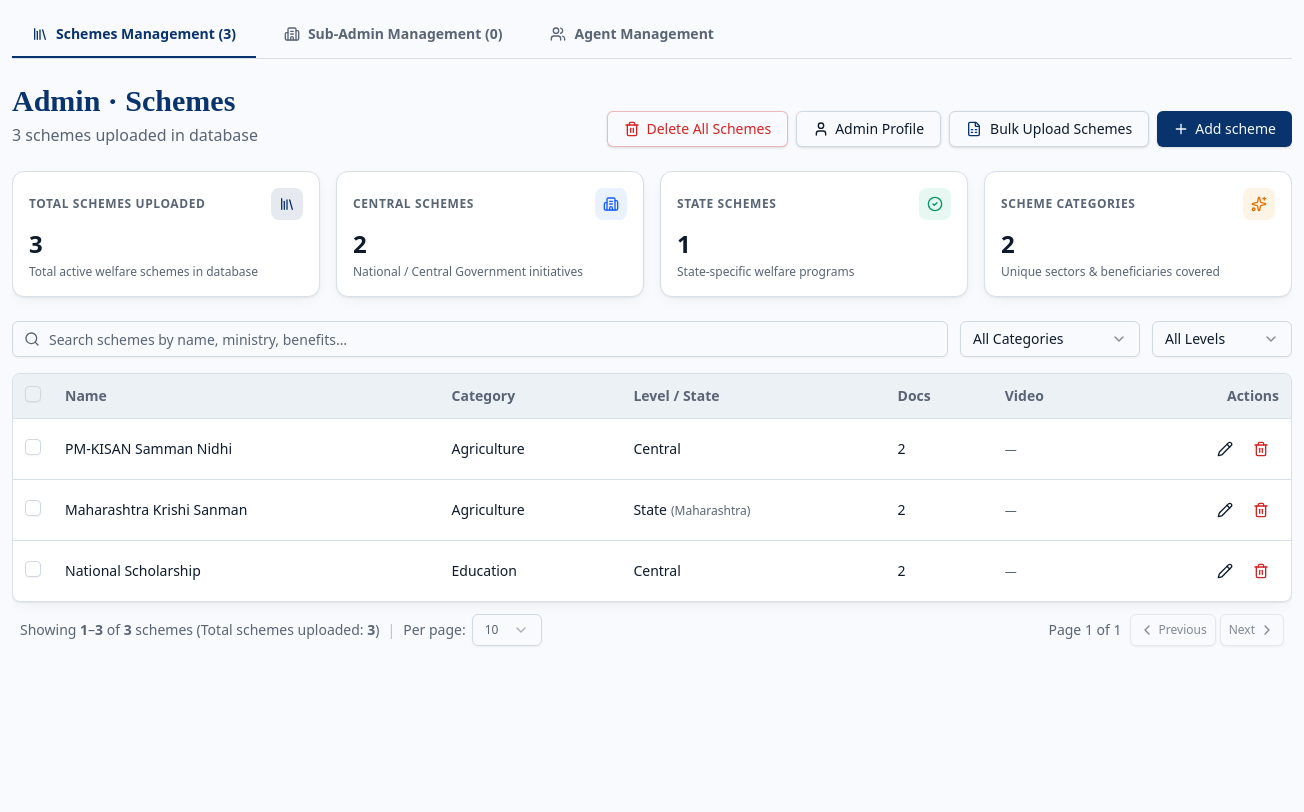
Test: Admin Bulk Delete Schemes Functionality › selects only filtered schemes when a search filter is active and Select All is clicked
The image size is (1304, 812).
# Search for "Scholarship" which matches only scheme-3
In the field with placeholder "Search schemes by name, ministry, benefits…": (480, 339) [12,321,948,357], type "Scholarship"
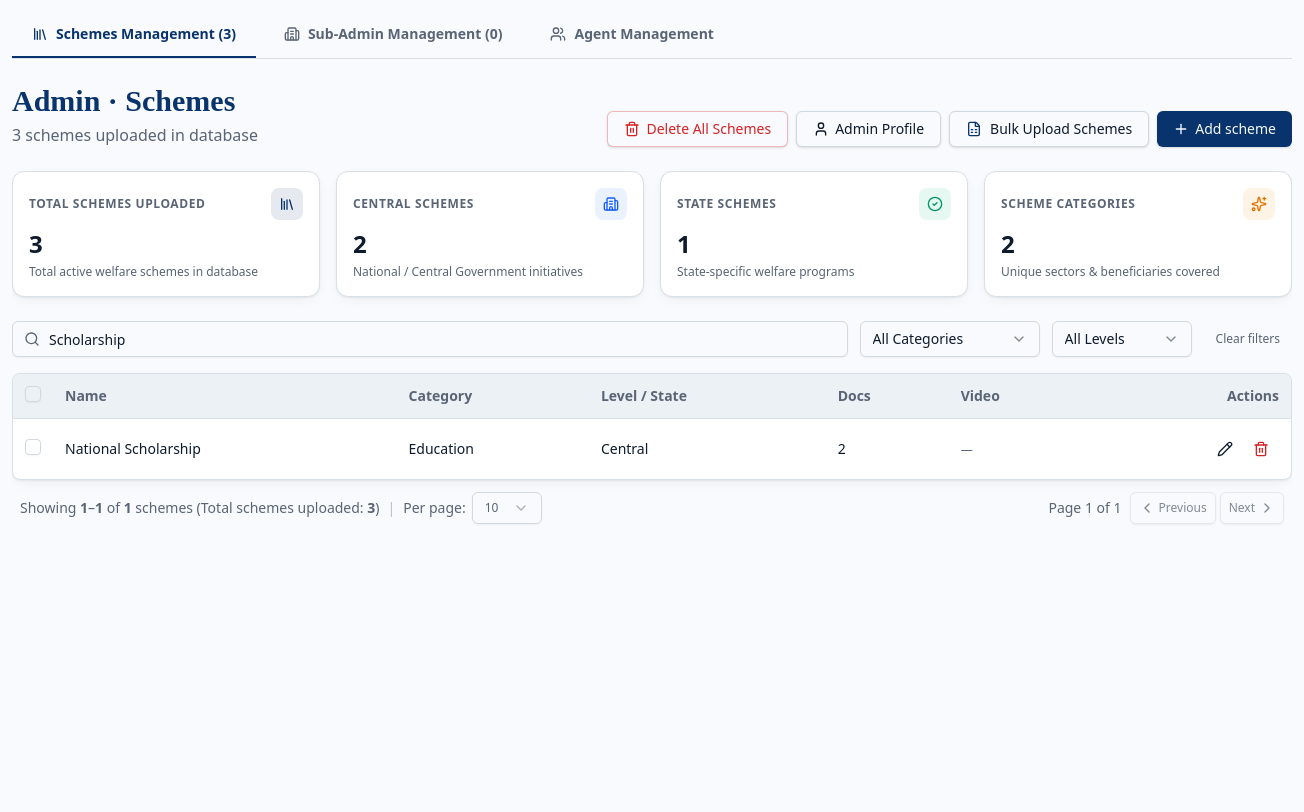
Check: the text "National Scholarship" is shown, box [53,418,397,479]
Check: the text "PM-KISAN Samman Nidhi" is gone
Click the checkbox with test id "select-all-checkbox": (33, 394) [25,386,41,402]
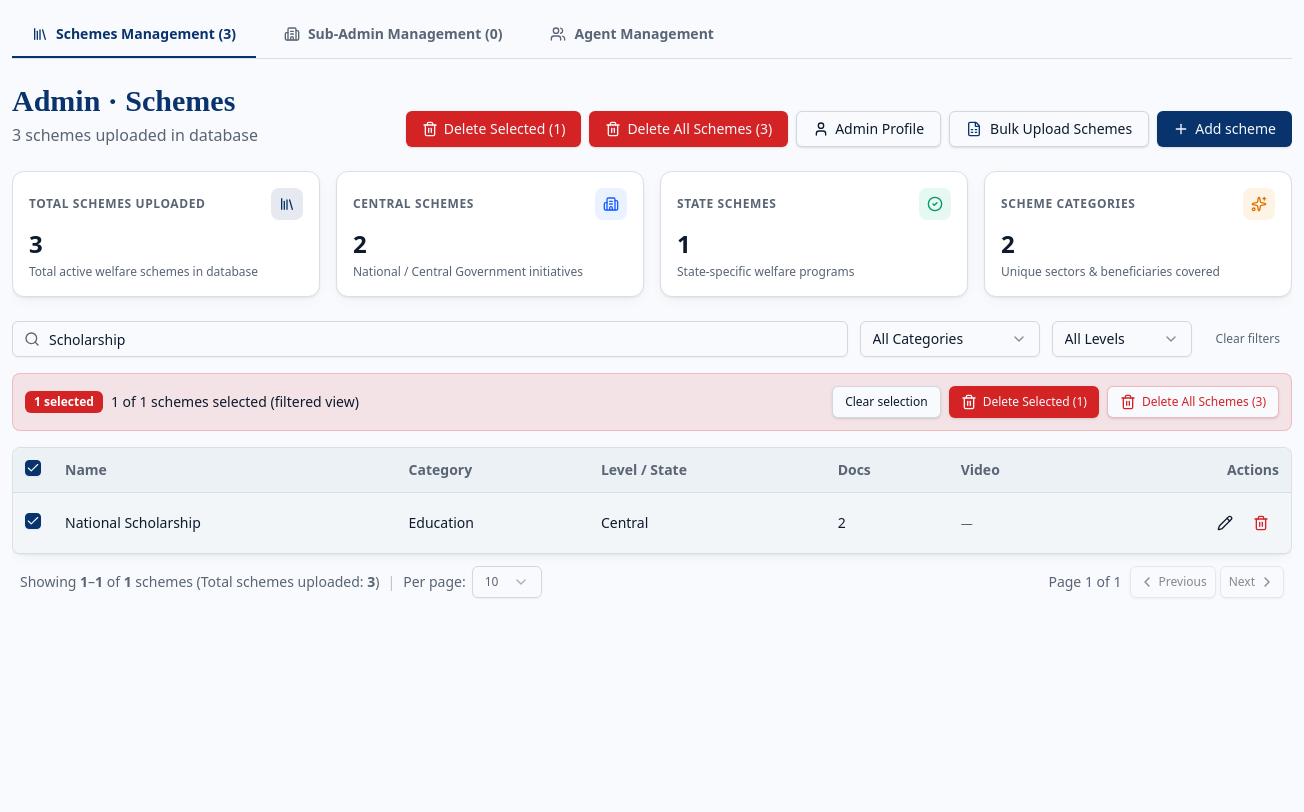
Check: the text "1 selected" is shown, box [25,391,103,413]
Check: the button with test id "bulk-delete-button" reads "Delete Selected (1)", box [949,386,1099,418]
